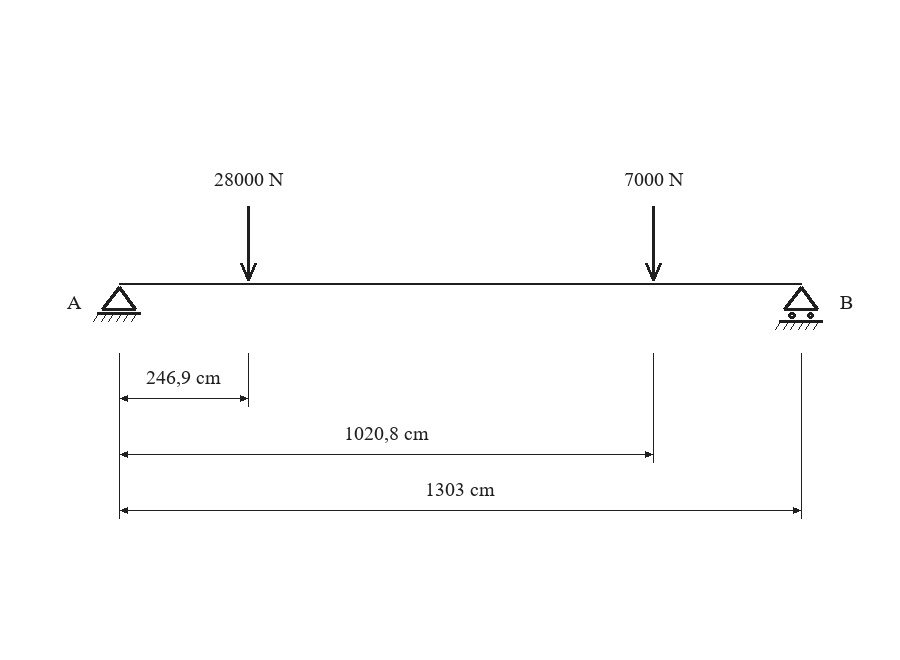pin_support: (93, 286, 141, 322)
point_load: (240, 206, 257, 281), (645, 206, 662, 281)
roller_support: (775, 286, 823, 330)
